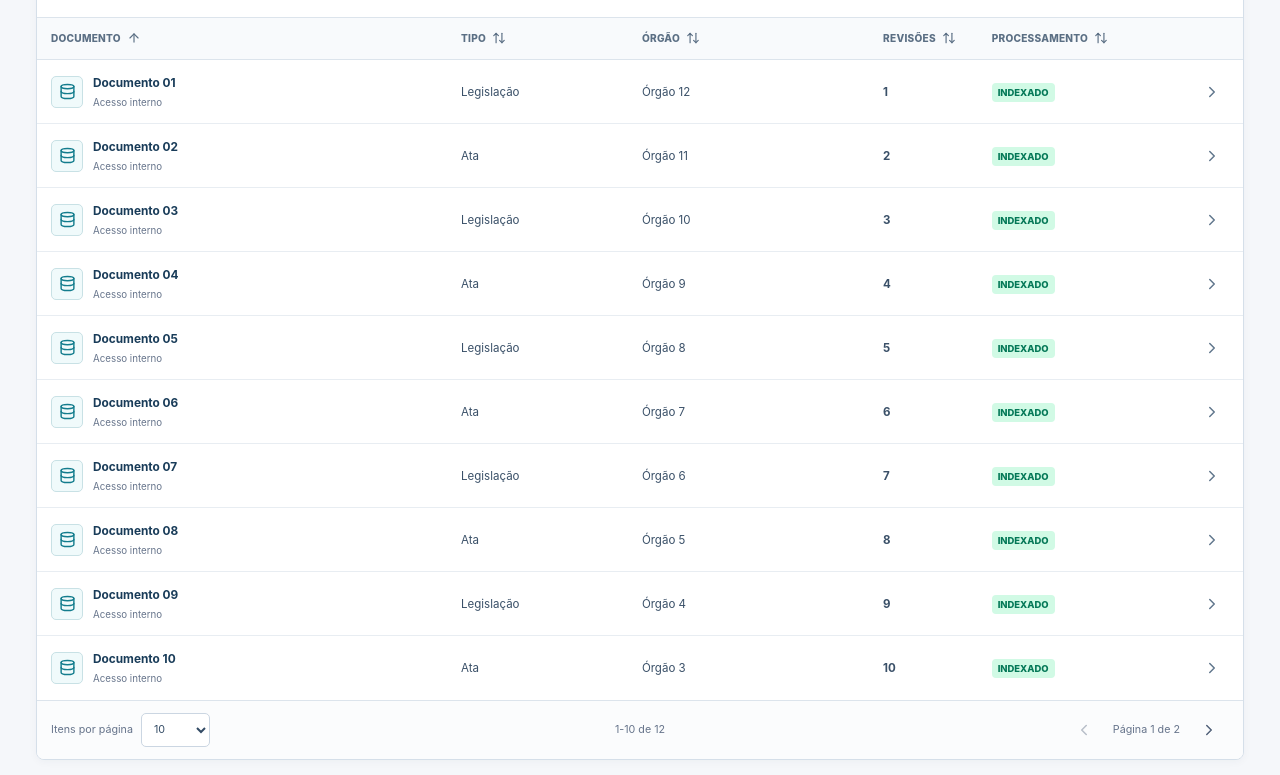
Test: exibe catálogo paginado e ordenável abaixo da área de trabalho
This screenshot has width=1280, height=775.
(page scrolled)
Expected: the text "Documento 01" is shown, [93,76,176,90]
Expected: the text "Documento 11" is not shown
Click the button named "Próxima página" at (1209, 730), box [1189,710,1229,750]
(page scrolled)
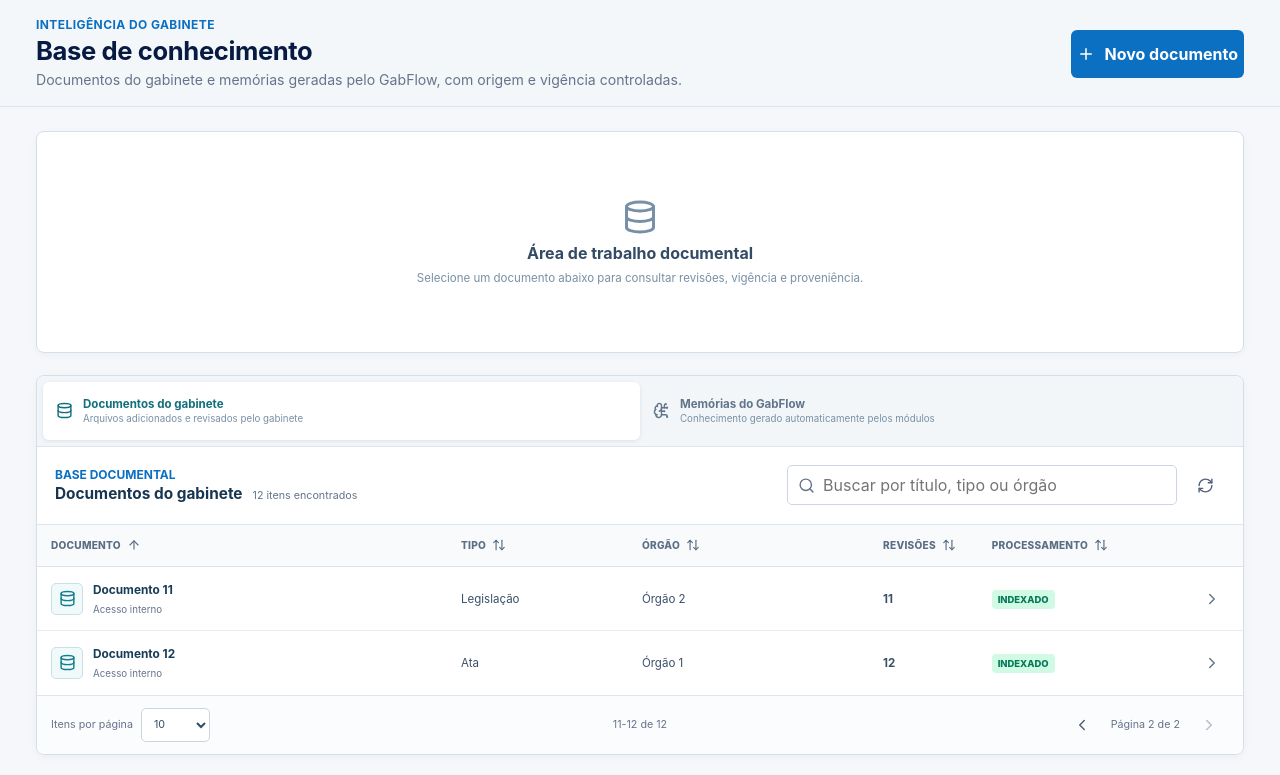
Now the text "Documento 11" is shown, box [93,582,173,596]
Click the button "Revisões" at (919, 545), box [883,531,956,559]
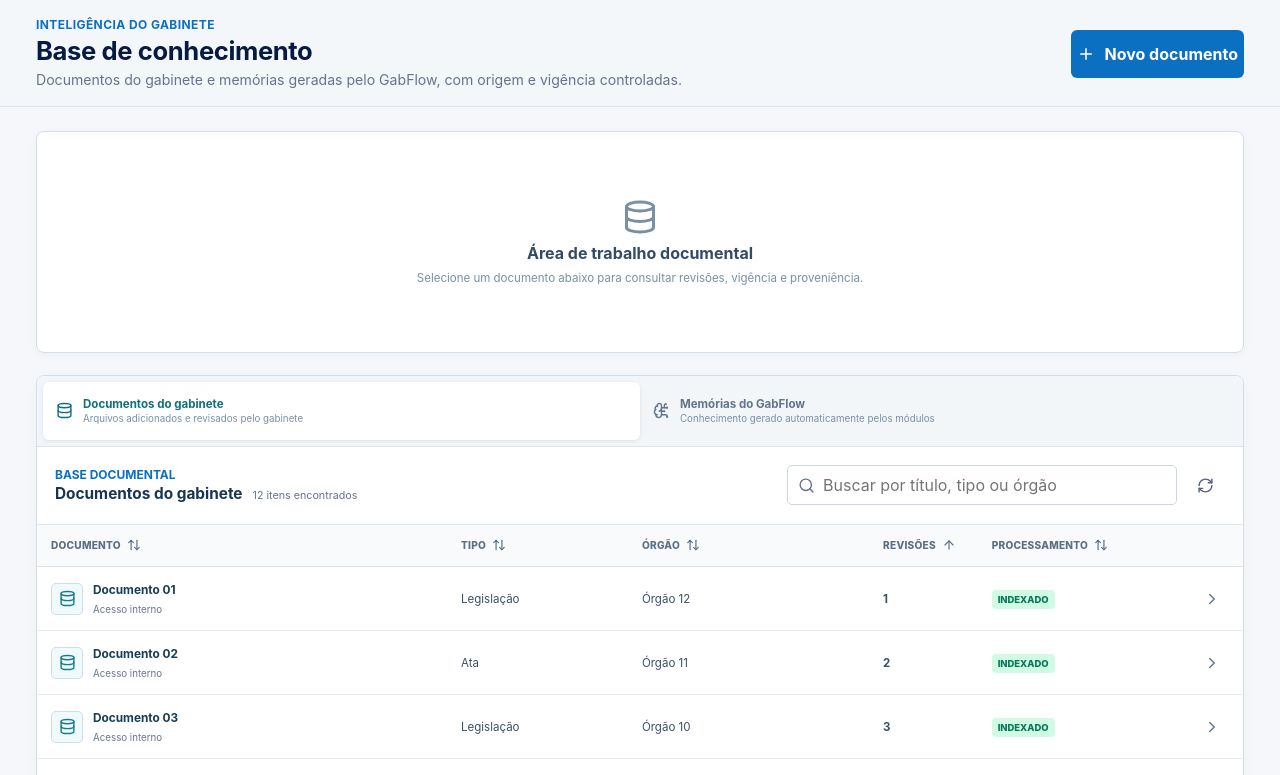
Click the button "Revisões" at (919, 545), box [883,531,956,559]
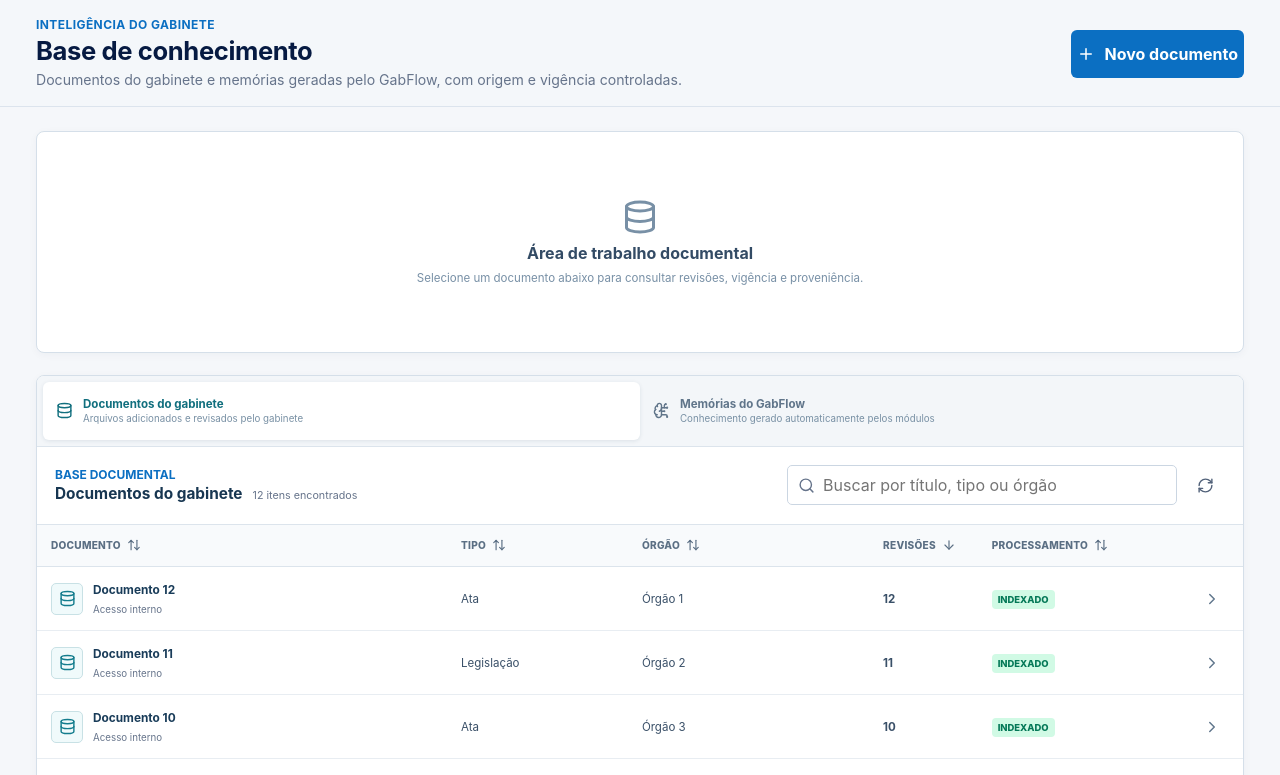
Now the row "Documento 12 Acesso interno Ata Órgão 1 12 Indexado" is shown, box [37,566,1243,630]
Click the button "Documento 12 Acesso interno" at (67, 599), box [51,582,433,614]
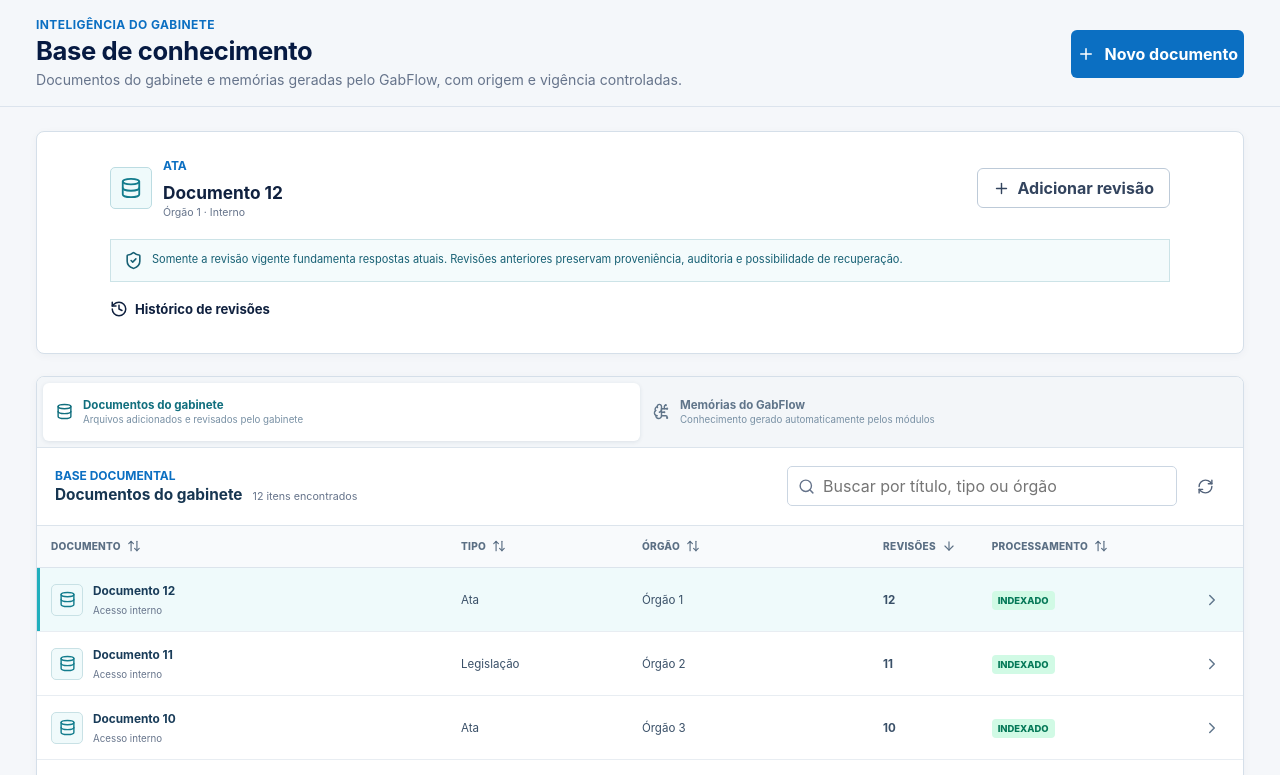
Now the heading "Documento 12" is shown, box [163,182,283,202]
